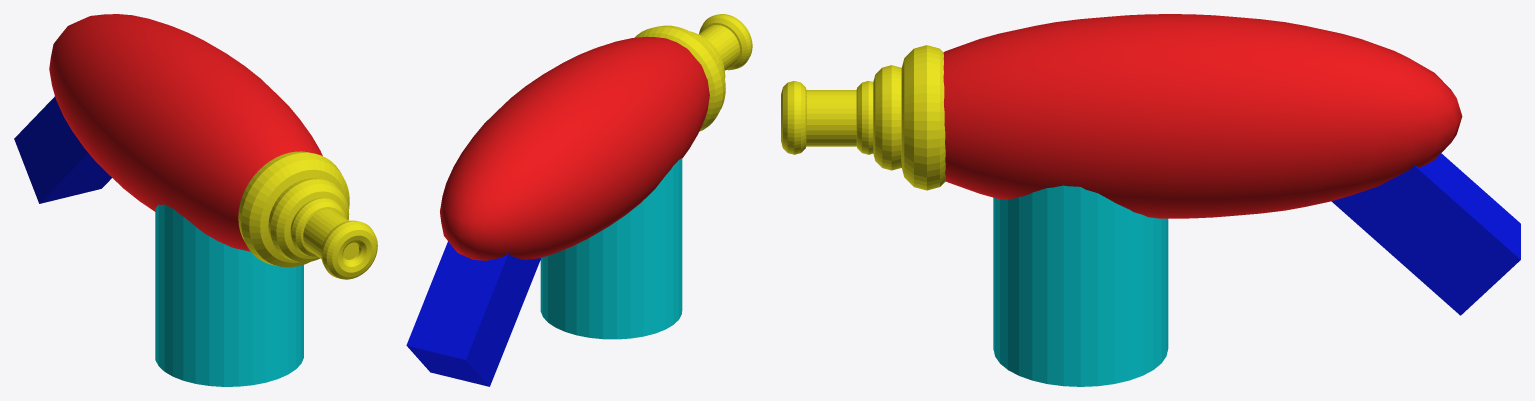
3 views of the same model, side by side, from view 1: azimuth 30°, elevation 25°; view 2: azimuth 150°, elevation 25°; view 3: azimuth 270°, elevation 25° (orthographic). The views are drawn at different scales.
Parts seen in each view (by area): view 1: ทรงกลม, ทรงกระบอก.001, Cube, Torus.003, Torus.001, Torus.004, ทรงกระบอก, Torus.002; view 2: ทรงกลม, ทรงกระบอก.001, Cube, Torus.003, Torus.004, ทรงกระบอก; view 3: ทรงกลม, ทรงกระบอก.001, Cube, Torus.003, ทรงกระบอก, Torus.001, Torus.004, Torus.002.
Boxes of the visible parts, left/top/right/bottom form: ทรงกลม: left=49, top=14, right=322, bottom=251; ทรงกระบอก.001: left=155, top=204, right=303, bottom=386; Cube: left=14, top=96, right=111, bottom=203; Torus.003: left=238, top=151, right=349, bottom=267; Torus.001: left=268, top=178, right=349, bottom=262; Torus.004: left=321, top=220, right=377, bottom=279; ทรงกระบอก: left=303, top=209, right=358, bottom=259; Torus.002: left=290, top=198, right=346, bottom=256; ทรงกลม: left=440, top=36, right=709, bottom=260; ทรงกระบอก.001: left=540, top=158, right=682, bottom=339; Cube: left=406, top=241, right=541, bottom=386; Torus.003: left=635, top=25, right=725, bottom=131; Torus.004: left=699, top=14, right=752, bottom=70; ทรงกระบอก: left=698, top=25, right=739, bottom=70; ทรงกลม: left=943, top=14, right=1462, bottom=218; ทรงกระบอก.001: left=993, top=185, right=1168, bottom=386; Cube: left=1331, top=153, right=1520, bottom=315; Torus.003: left=901, top=45, right=945, bottom=190; ทรงกระบอก: left=806, top=90, right=856, bottom=146; Torus.001: left=873, top=65, right=901, bottom=170; Torus.004: left=781, top=81, right=806, bottom=154; Torus.002: left=856, top=81, right=873, bottom=154.
Size of the model in its own units: 592 by 1041 by 2143.
